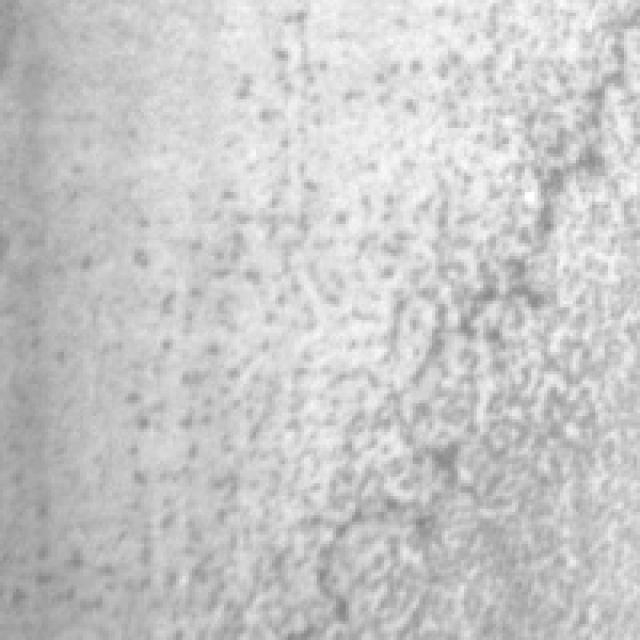pitted_surface: (147, 16, 634, 621)
